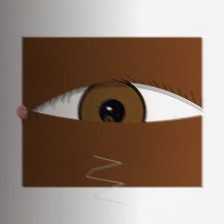foreign_body_visible: (98, 68, 123, 88)
